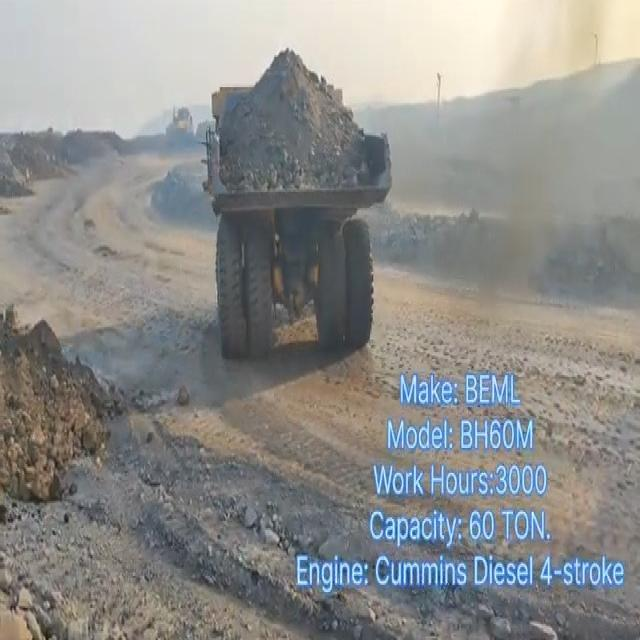dump_truck: (205, 43, 392, 347)
